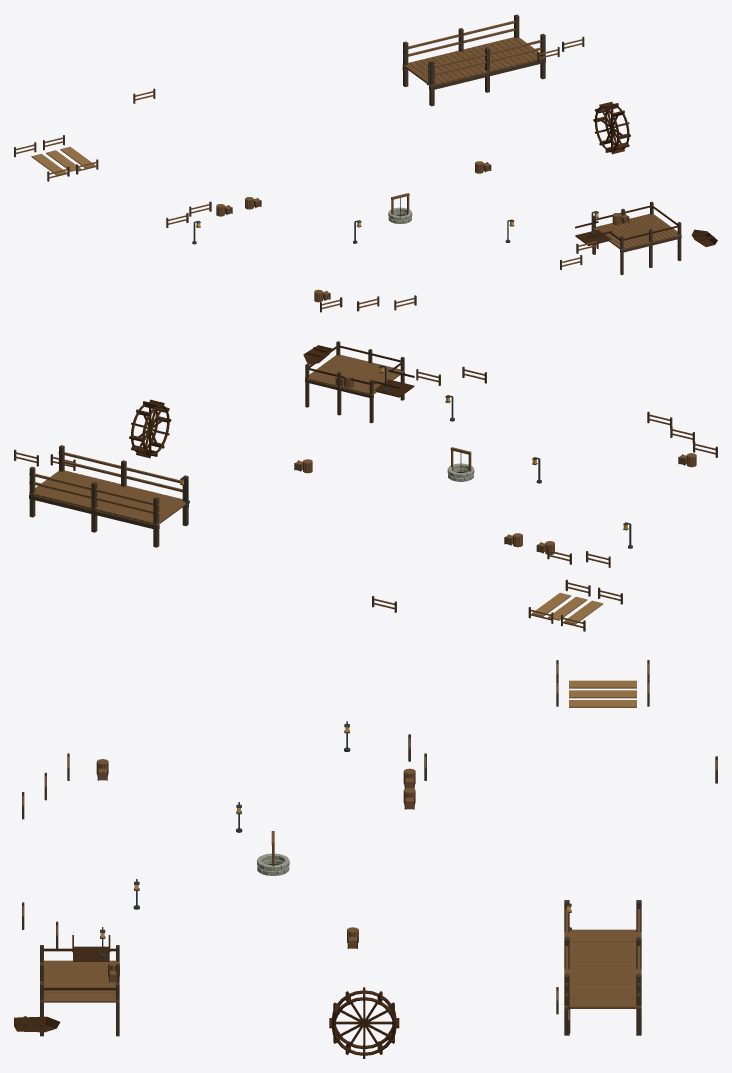
File: props.glb
3 views of the same model, one above another, from view 1: azimuth 30°, elevation 25°; view 2: azimuth 150°, elevation 25°; view 3: azimuth 270°, elevation 25° (orthographic). The views are drawn at different scales.
Parts seen in each view (by area): view 1: UpstreamBridge, LakesideDock, CentralWell; view 2: UpstreamBridge, LakesideDock, CentralWell; view 3: UpstreamBridge, LakesideDock, CentralWell, WaterwheelRim.001.
Boxes of the visible parts, box(x1,y1,x2,y2) form: UpstreamBridge: box(402, 14, 545, 106); LakesideDock: box(592, 201, 681, 275); CentralWell: box(388, 193, 412, 223); UpstreamBridge: box(29, 445, 188, 547); LakesideDock: box(305, 341, 404, 423); CentralWell: box(447, 447, 474, 481); UpstreamBridge: box(564, 900, 641, 1035); LakesideDock: box(40, 945, 119, 1036); CentralWell: box(257, 831, 289, 875); WaterwheelRim.001: box(332, 997, 396, 1055).
Size of the model in its own units: 75 by 9.5 by 61.91.
